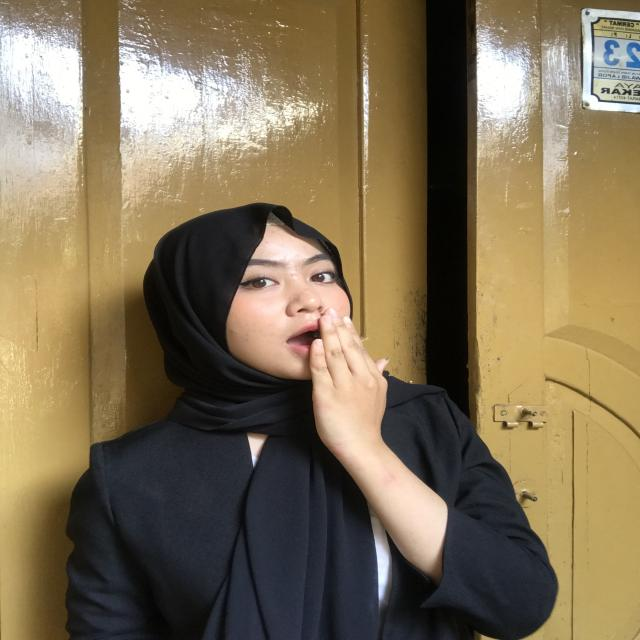ngantuk: (284, 294, 417, 477)
